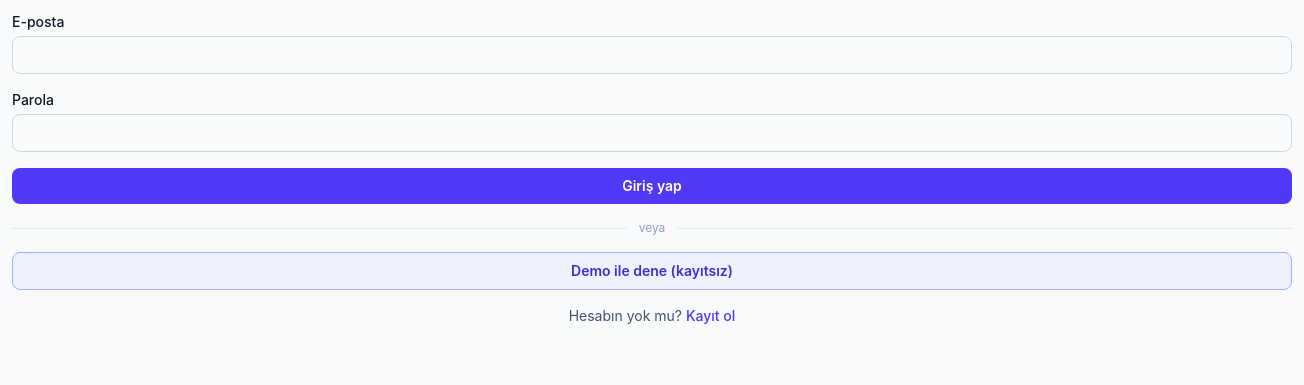
it: AuthForm › sunucuda demo kapalıysa (404) sunucunun mesajını gösterir
The image size is (1304, 385).
Click the button "Demo ile dene (kayıtsız)" at [652, 271], box [12,252,1292,290]
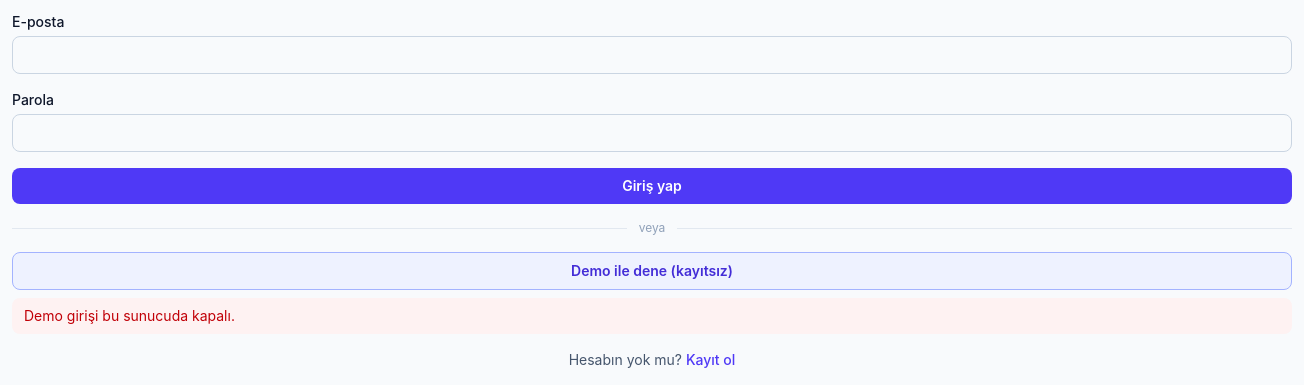
Check: the message reads "Demo girişi bu sunucuda kapalı.", box [24,307,235,324]
